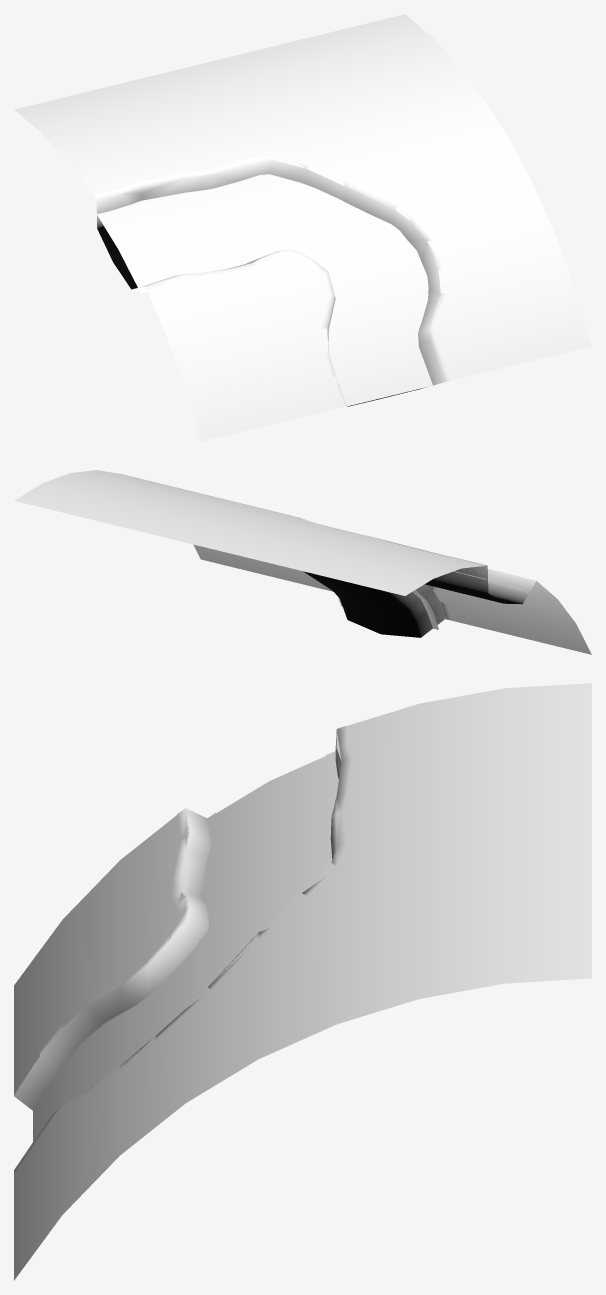
Rendered from grd_Res_2.dae.
The picture shows the model from 3 angles, top to bottom: view 1: azimuth 30°, elevation 25°; view 2: azimuth 150°, elevation 25°; view 3: azimuth 270°, elevation 25°; orthographic projection. The views are drawn at different scales.
Visible parts, largest first — view 1: grd_Res_2; view 2: grd_Res_2; view 3: grd_Res_2.
Boxes of the visible parts, bbox=[...] form: grd_Res_2: bbox=[14, 14, 591, 441]; grd_Res_2: bbox=[14, 470, 591, 654]; grd_Res_2: bbox=[14, 683, 591, 1280].
Bounding box in the file's own units: 512 × 264 × 423.
4 materials, 1 textured.
